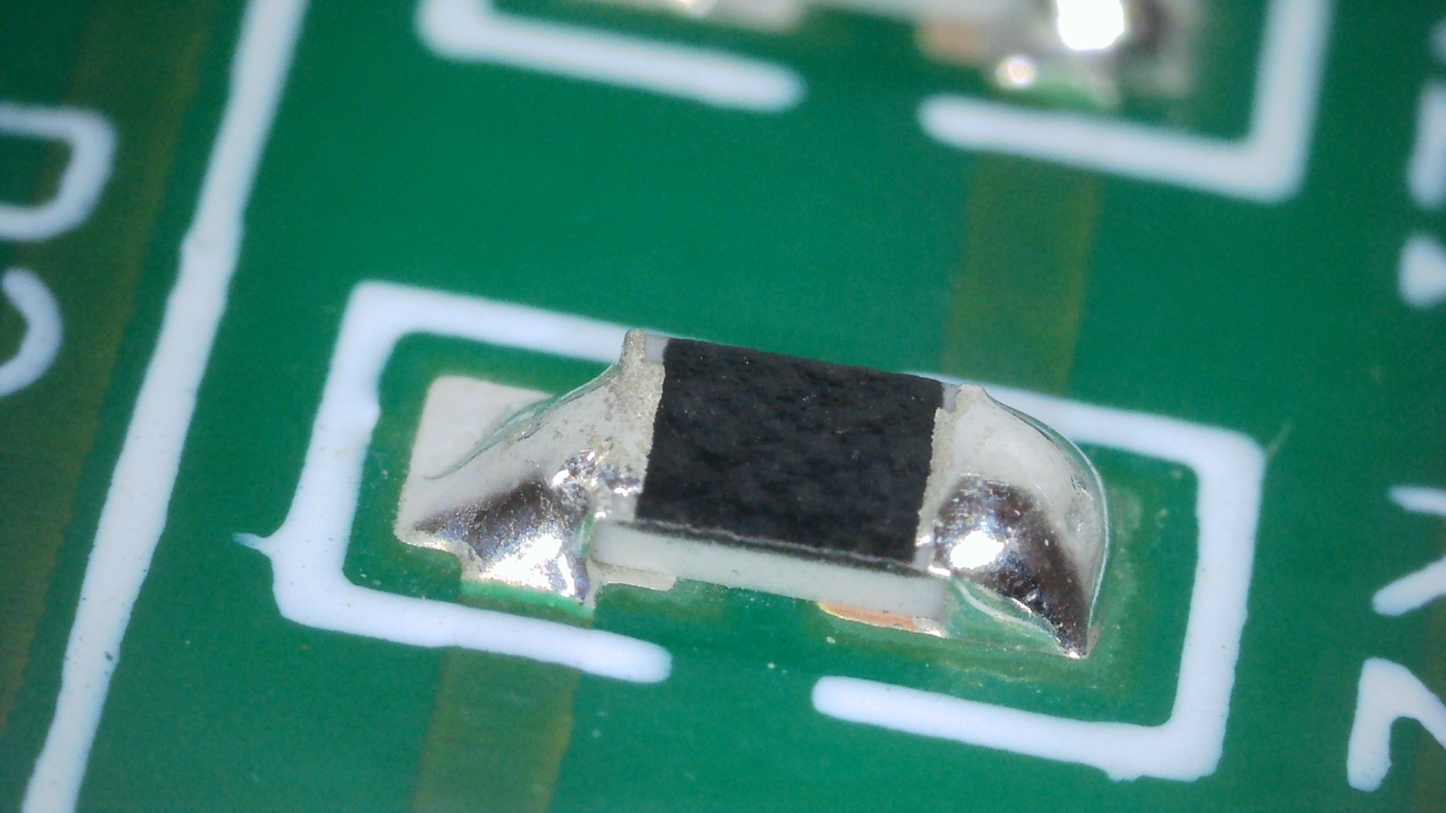NG: (912, 383, 1109, 663)
OK: (394, 330, 670, 595)
